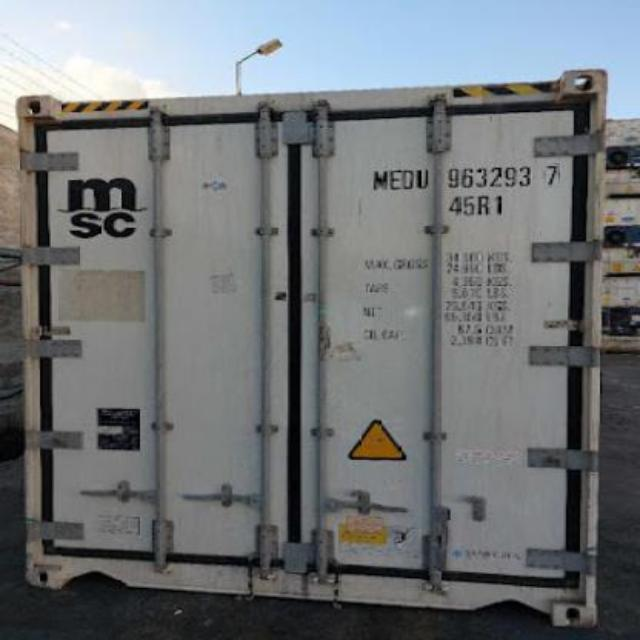2: (491, 159, 504, 191)
3: (520, 159, 536, 195), (474, 161, 490, 191)
6: (458, 158, 474, 188)
7: (542, 159, 562, 189)
9: (504, 159, 518, 191), (446, 162, 458, 188)
D: (402, 166, 416, 194)
E: (386, 162, 402, 194)
M: (368, 161, 389, 193)
U: (414, 157, 430, 195)
